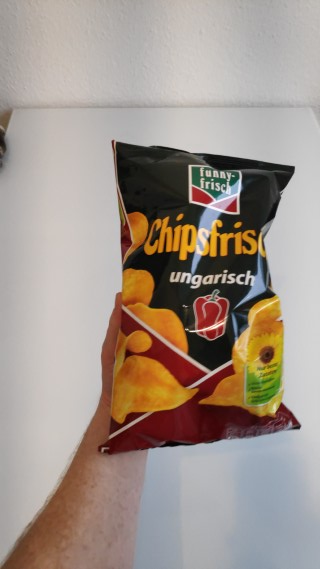chipsfrisch: (94, 138, 304, 457)
